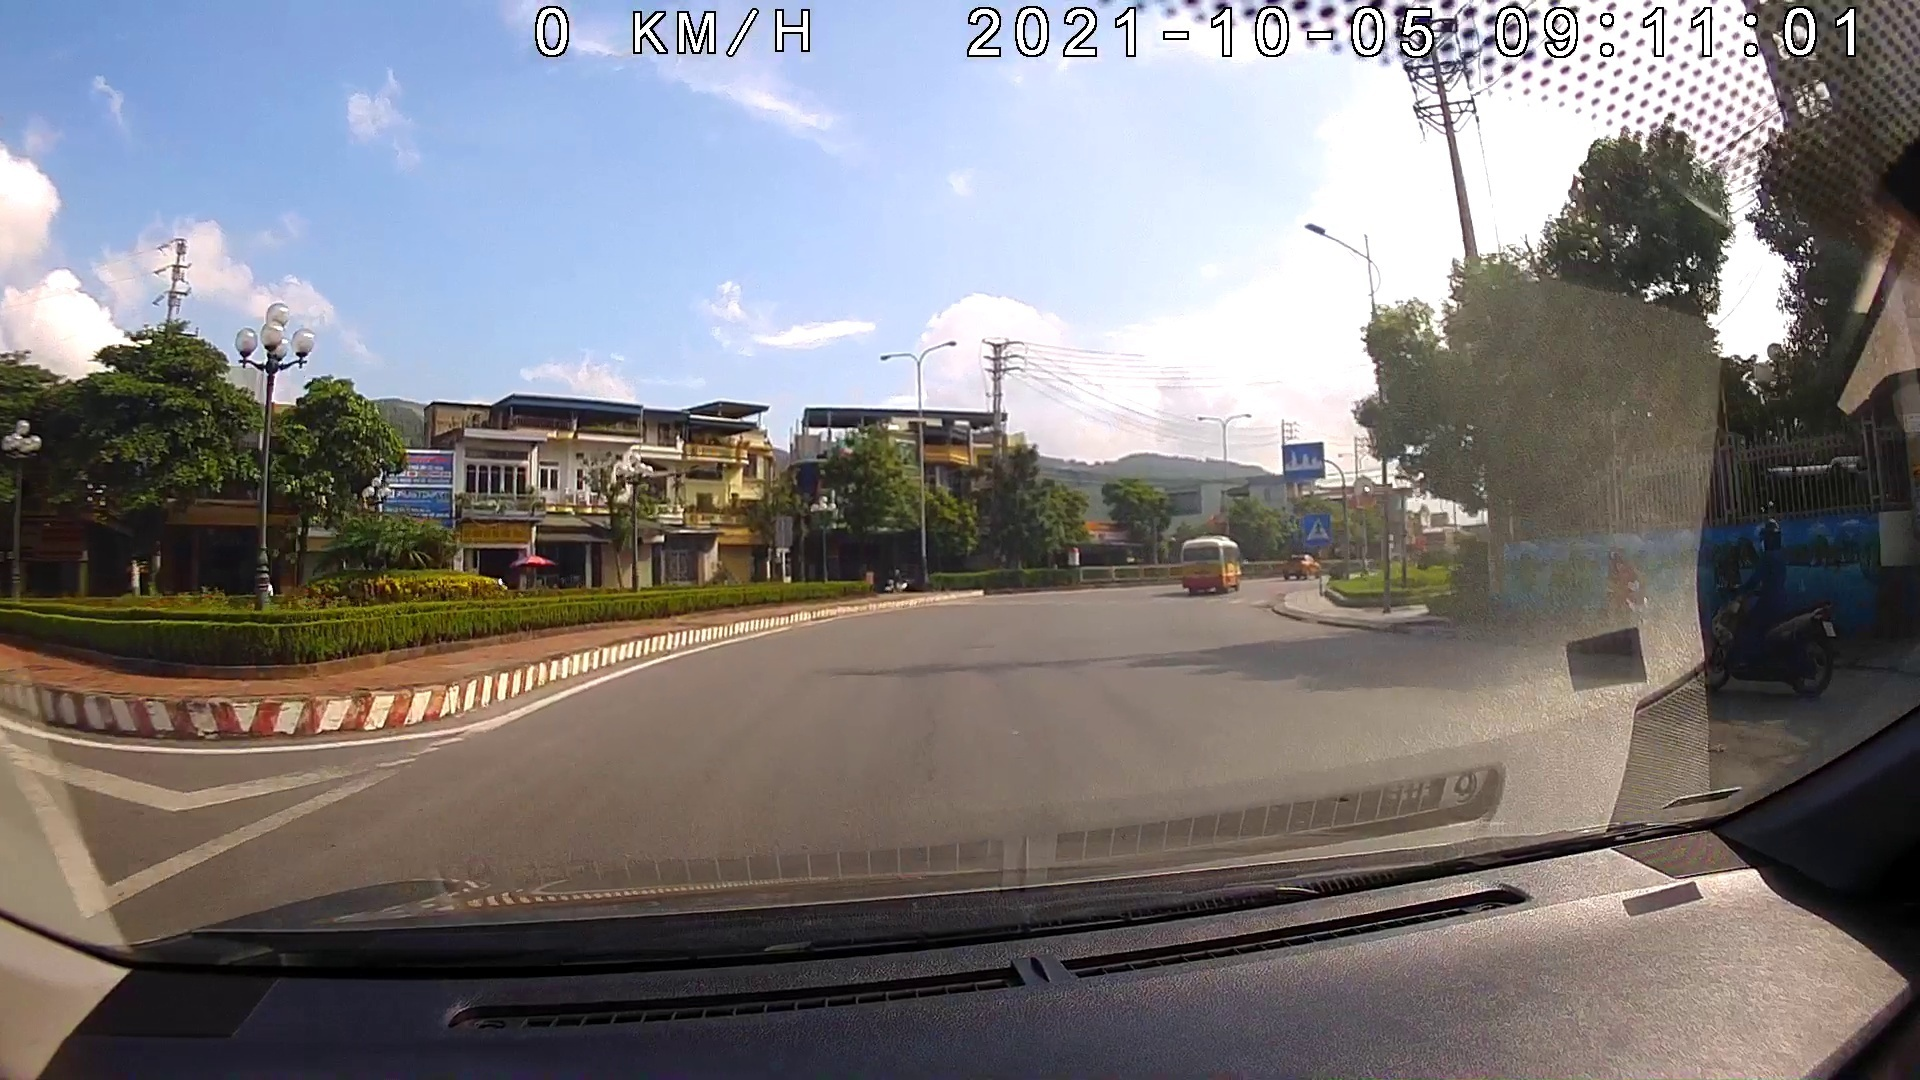Bien khac: (1280, 442, 1324, 483)
Nguoi di bo: (1303, 512, 1335, 549)
